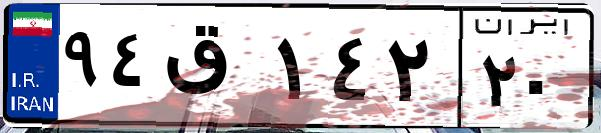0: (525, 38, 570, 115)
1: (270, 28, 330, 110)
2: (385, 28, 445, 110), (475, 38, 525, 113)
4: (330, 28, 385, 110), (110, 28, 158, 98)
9: (57, 26, 110, 100)
ق: (158, 20, 270, 120)
